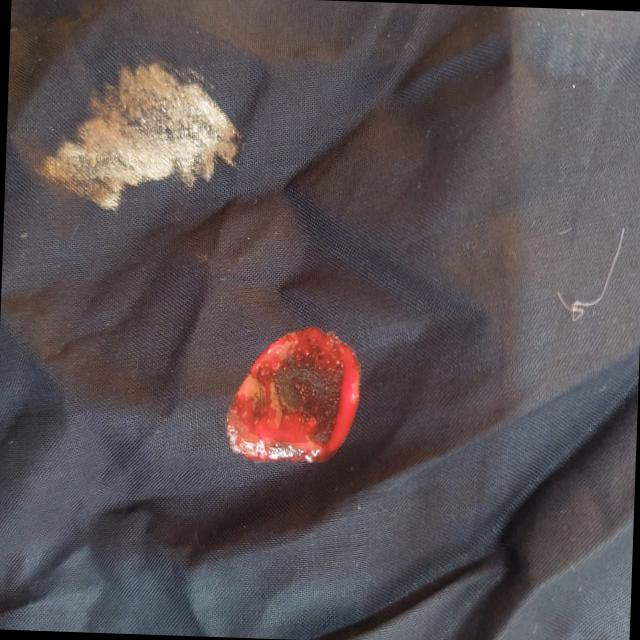Stain: (18, 54, 247, 218), (224, 318, 362, 473)
Thread: (554, 220, 628, 325)
